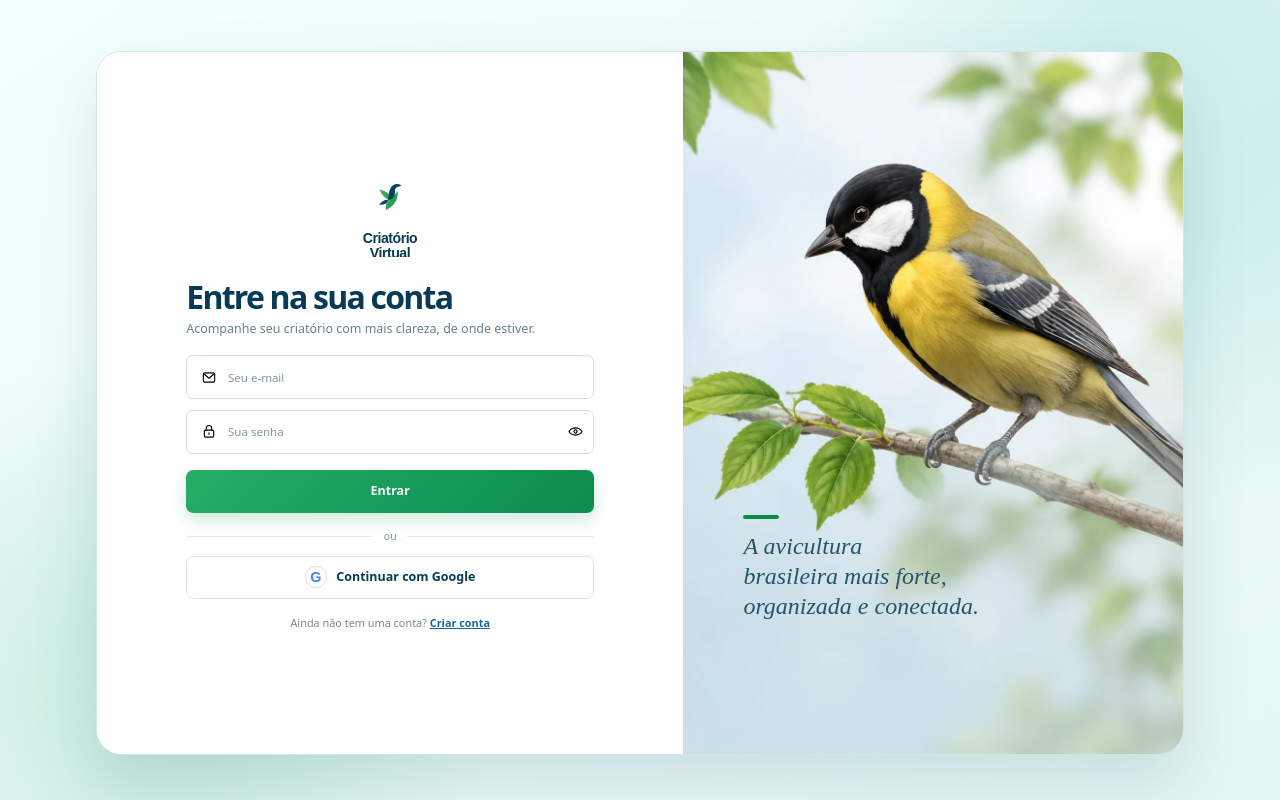
Scenario: LoginPage › starts Google authentication in a popup and confirms the server session
Expected: the heading "Entre na sua conta" is shown, top-left (186, 275), bottom-right (452, 318)
Step 1. Click the button "G Continuar com Google" → (390, 577), box top-left (186, 556), bottom-right (594, 599)
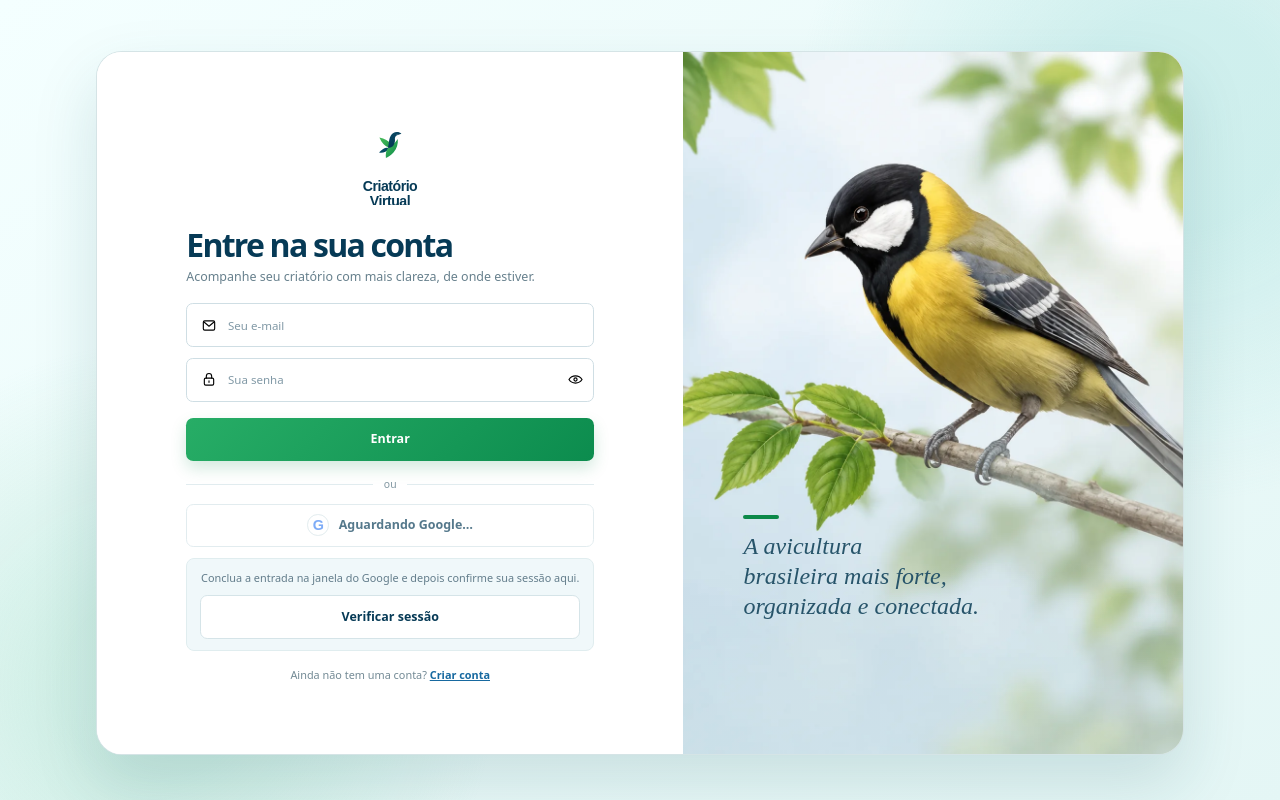
Expected: the message shows "Conclua a entrada", top-left (201, 570), bottom-right (579, 585)
Step 2. Click the button "Verificar sessão" → (390, 617), box top-left (200, 595), bottom-right (580, 639)
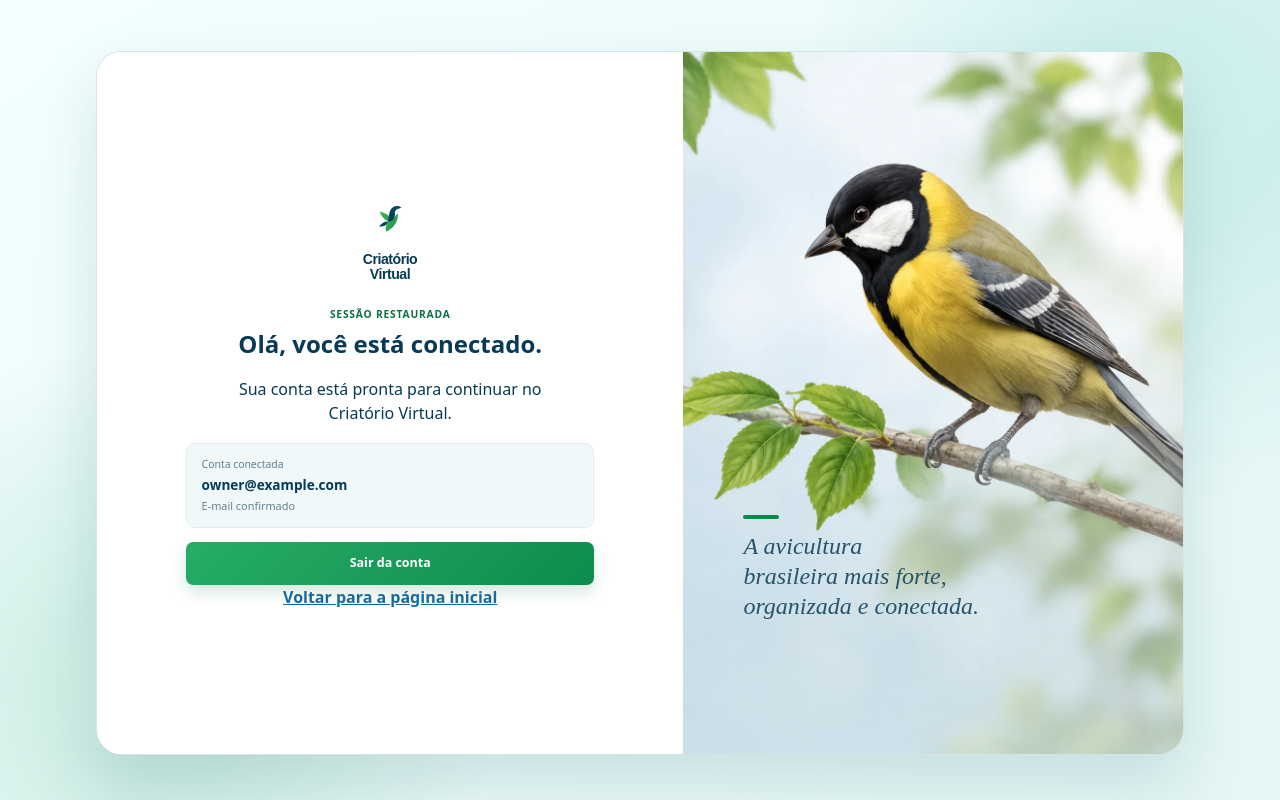
Expected: the heading "Olá, você está conectado." is shown, top-left (238, 327), bottom-right (542, 360)
